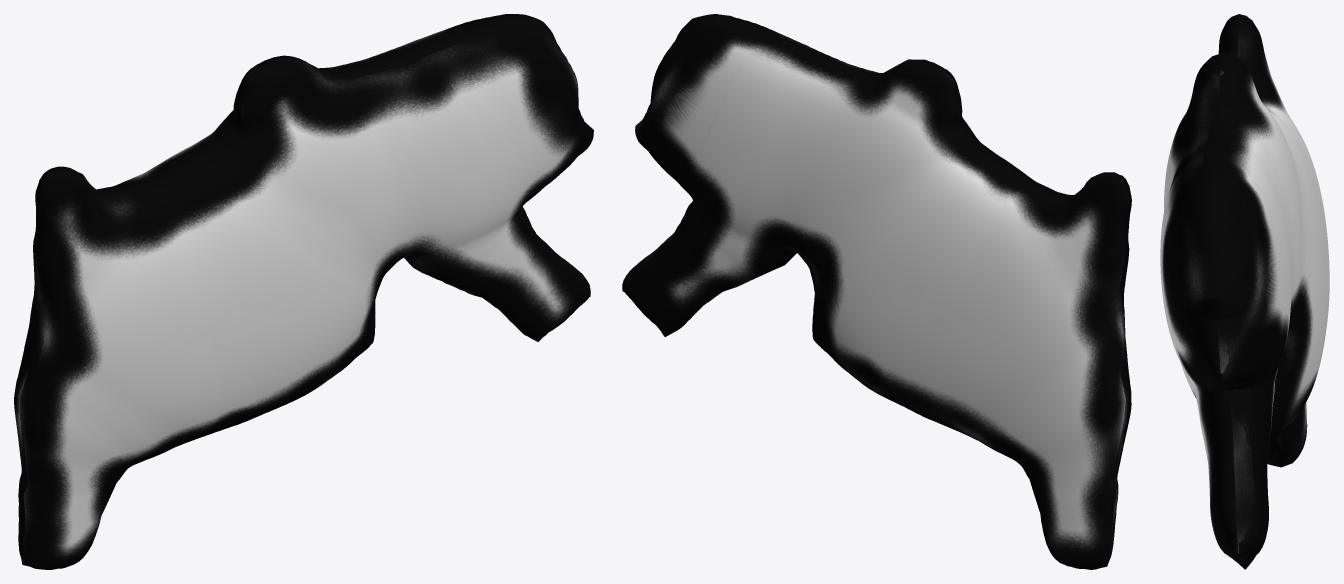
Rendered from leger1.fbx.
3 views of the same model, side by side, from view 1: azimuth 30°, elevation 25°; view 2: azimuth 150°, elevation 25°; view 3: azimuth 270°, elevation 25° (orthographic). The views are drawn at different scales.
Parts seen in each view (by area): view 1: root; view 2: root; view 3: root.
Part boxes in pixels (x1,y1,x2,y2): root: (14, 14, 593, 569); root: (622, 14, 1131, 569); root: (1160, 14, 1329, 569).
Size of the model in its own units: 0.3062 by 0.251 by 0.0769.
Materials: 1 (1 with a texture image).
